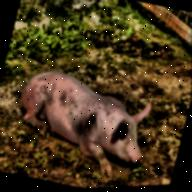boar: (5, 60, 160, 189)
